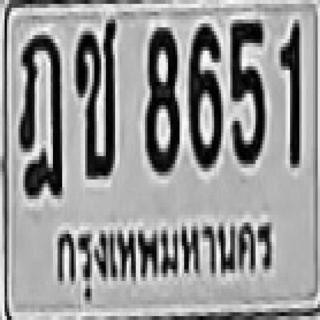A10: (74, 16, 115, 176)
A14: (17, 31, 61, 195)
N01: (279, 18, 299, 166)
N05: (228, 16, 262, 160)
N06: (186, 20, 221, 164)
N08: (143, 23, 177, 172)
P04: (47, 212, 281, 300)
